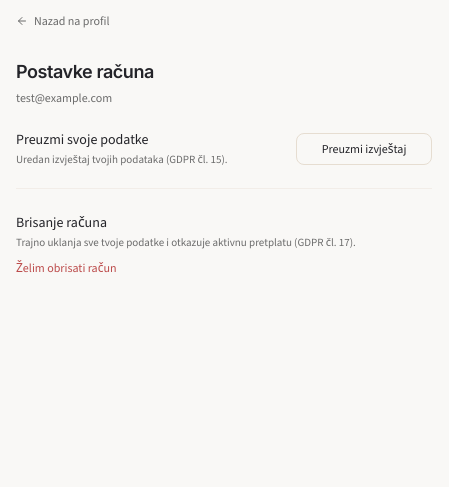
MojiPodaci — delete confirmation gating › enables submit when OBRIŠI is typed (case-insensitive, trims whitespace)
Click the button "Želim obrisati račun" at [66, 268], box [16,260,116,276]
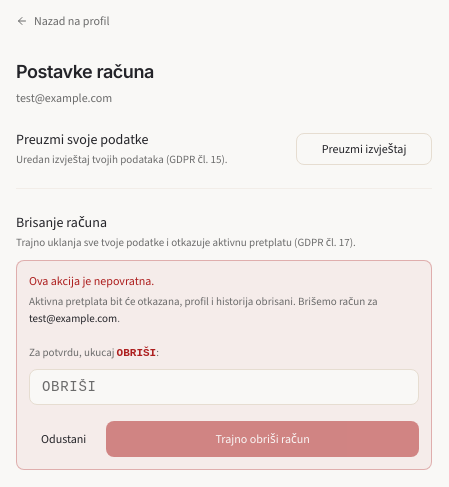
Type " OBRIŠI " into the field labelled "Za potvrdu, ukucaj OBRIŠI:" at [224, 387], box [29,369,419,405]
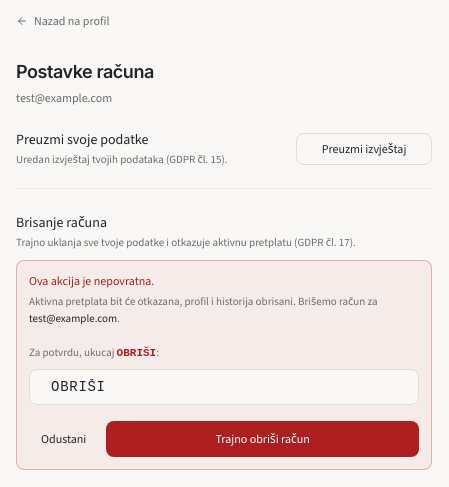
expect the button "Trajno obriši račun" is enabled: met, box [106,421,419,457]
